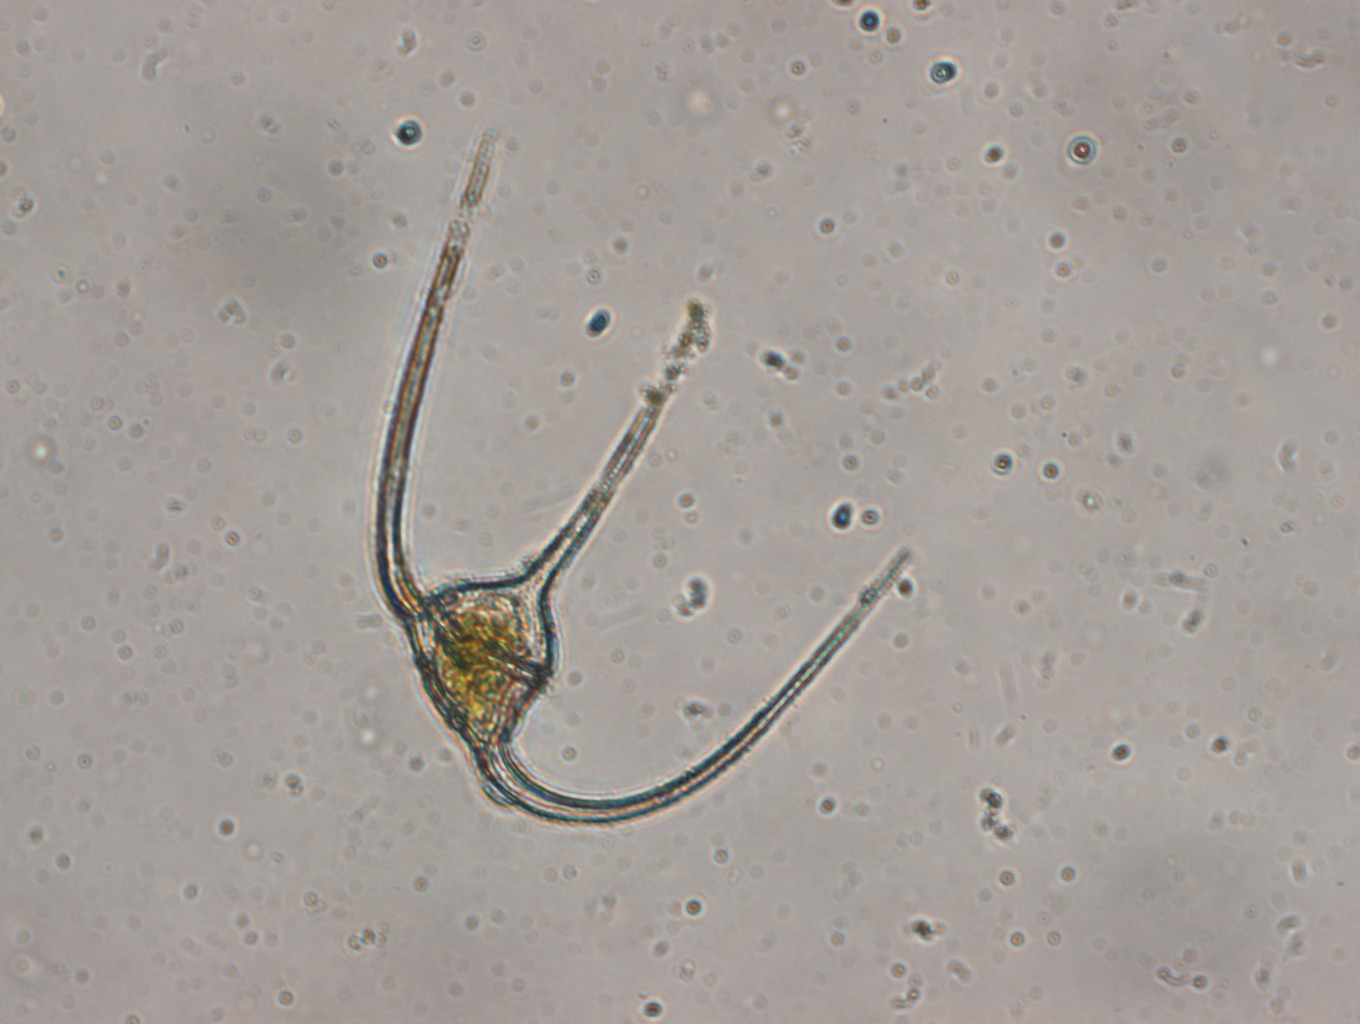ceratium trichoceros: (366, 108, 918, 833)
